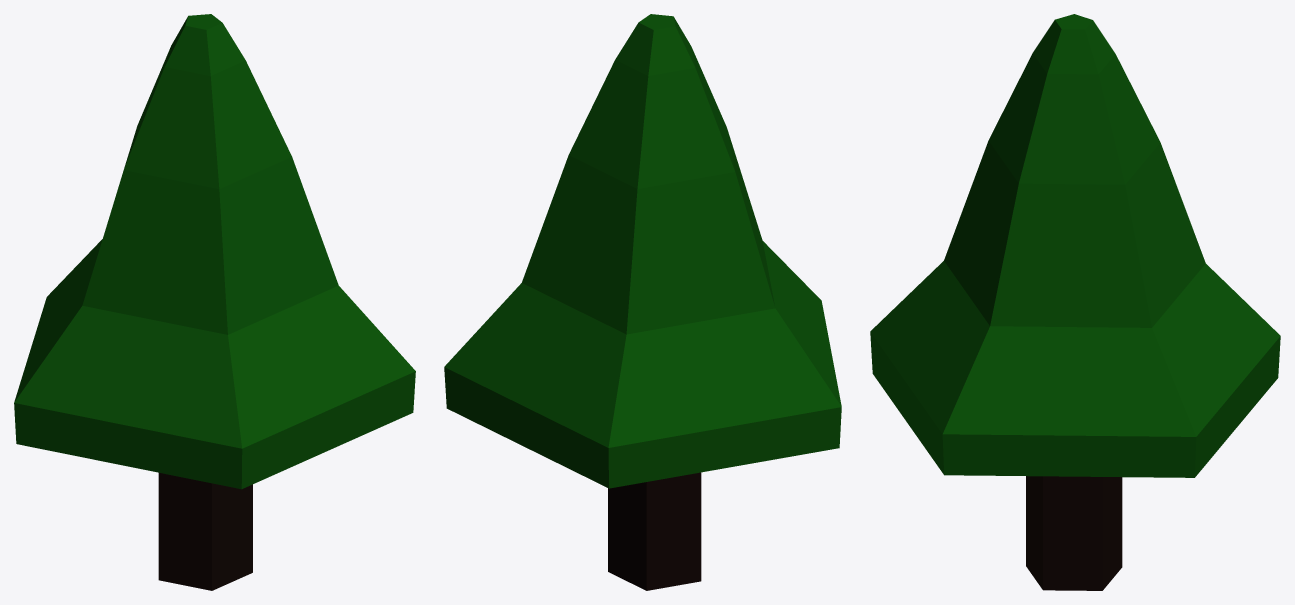
Rendered from tree.obj.
The picture shows the model from 3 angles, left to right: view 1: azimuth 30°, elevation 25°; view 2: azimuth 150°, elevation 25°; view 3: azimuth 270°, elevation 25°; orthographic projection.
Parts seen in each view (by area): view 1: Cylinder; view 2: Cylinder; view 3: Cylinder.
Boxes of the visible parts, box(x1,y1,x2,y2) form: Cylinder: box(14, 14, 415, 590); Cylinder: box(444, 14, 841, 590); Cylinder: box(870, 14, 1280, 590).
Size of the model in its own units: 2.87 by 4.44 by 3.
